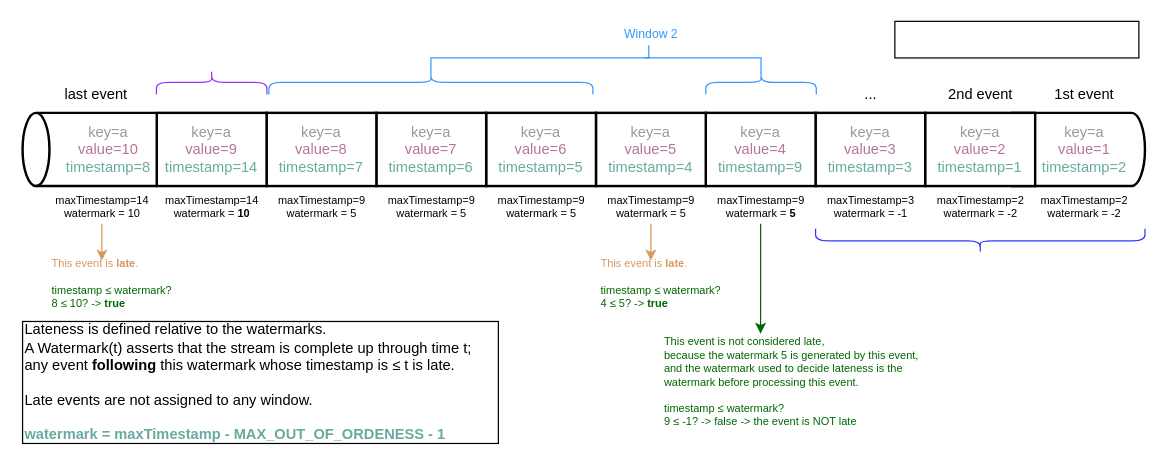
The diagram is 1166 pixels wide and 465 high, and some of its shapes have lost their labels. Each missing label, with the centre of its shape:
MAX_OUT_OF_ORDERNESS = 3 WINDOW_SIZE = 3: (x=1016, y=39)
Window 1: (x=979, y=240)
Window 3: (x=211, y=82)
